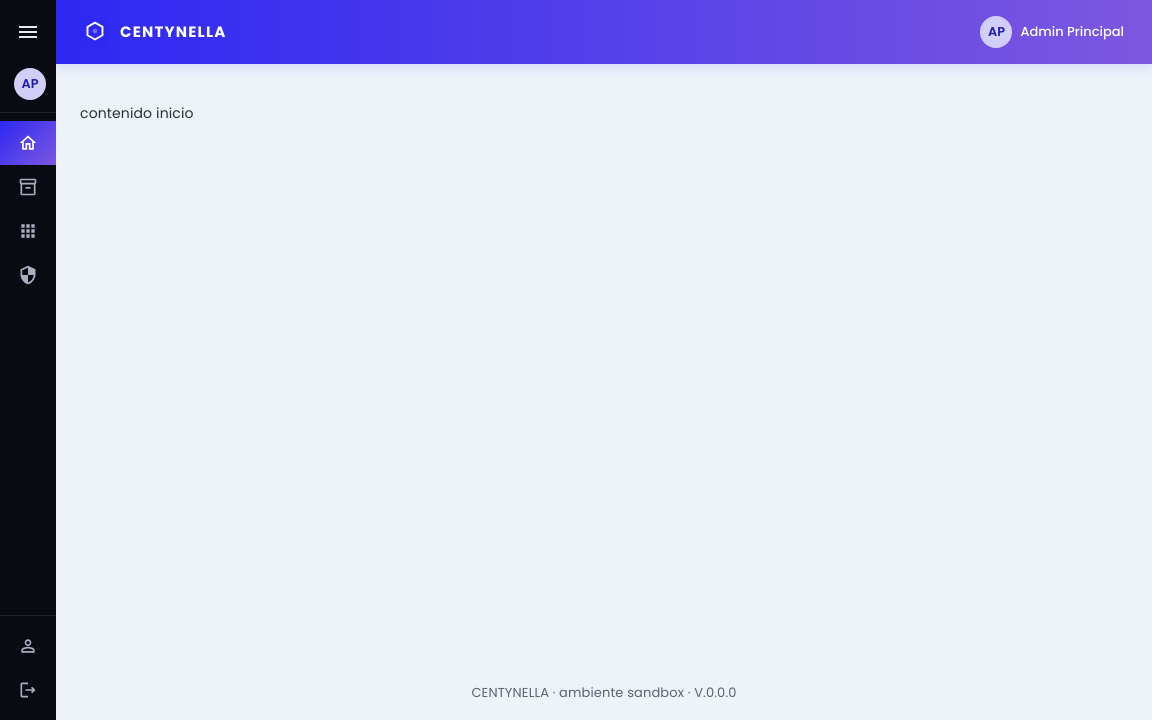
<ShellLayout /> — encabezado › el menú de usuario lleva al perfil
The image size is (1152, 720).
Click the button with aria-label "Menú de usuario" at {"x": 1052, "y": 32}, box [976,12,1128,52]
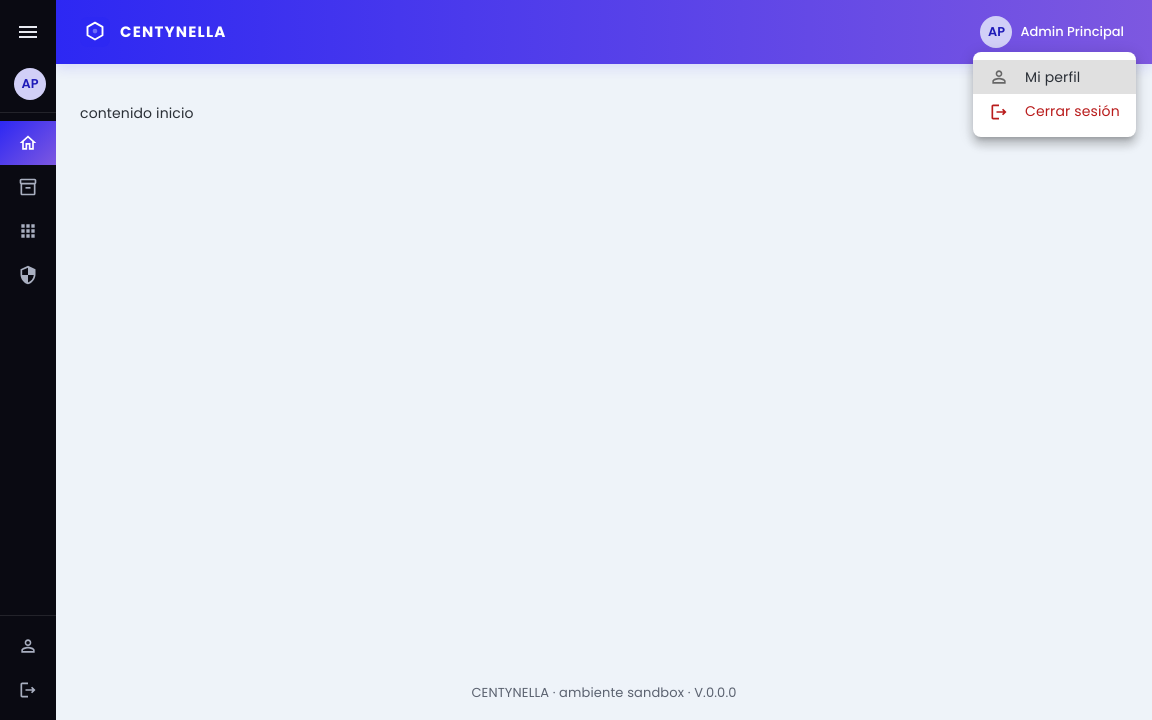
Click the menu item "Mi perfil" at {"x": 1054, "y": 77}, box [973,60,1136,94]
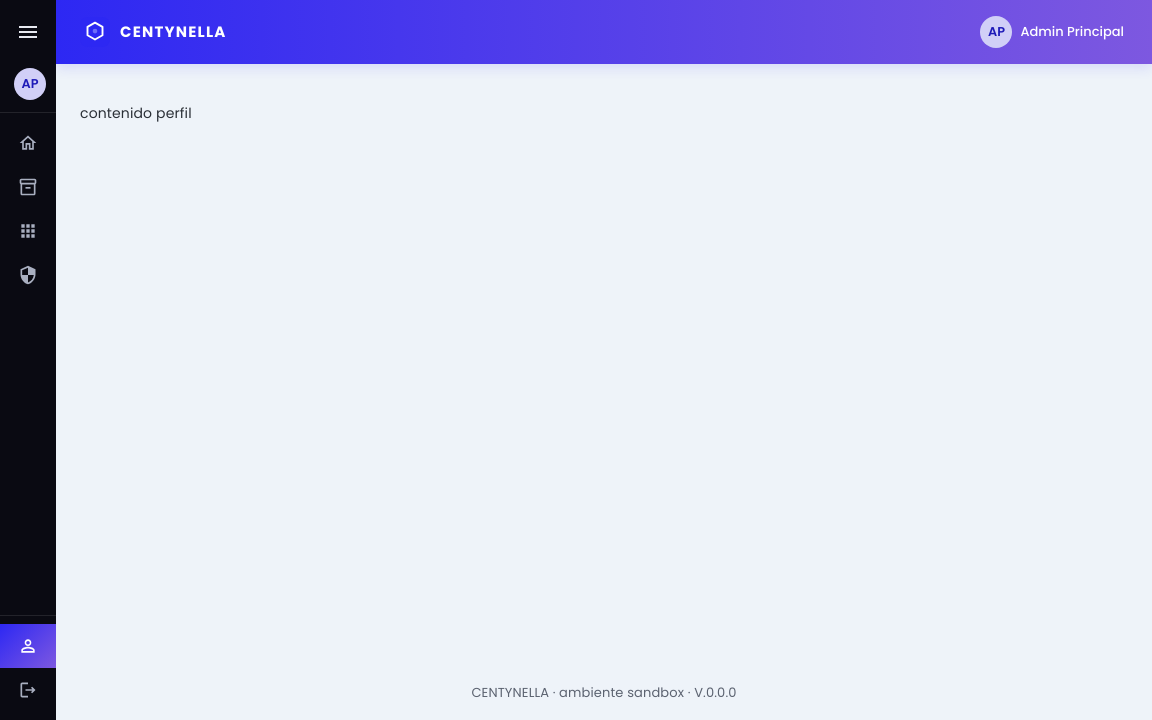
Now the text "contenido perfil" is shown, box [80,103,192,123]
